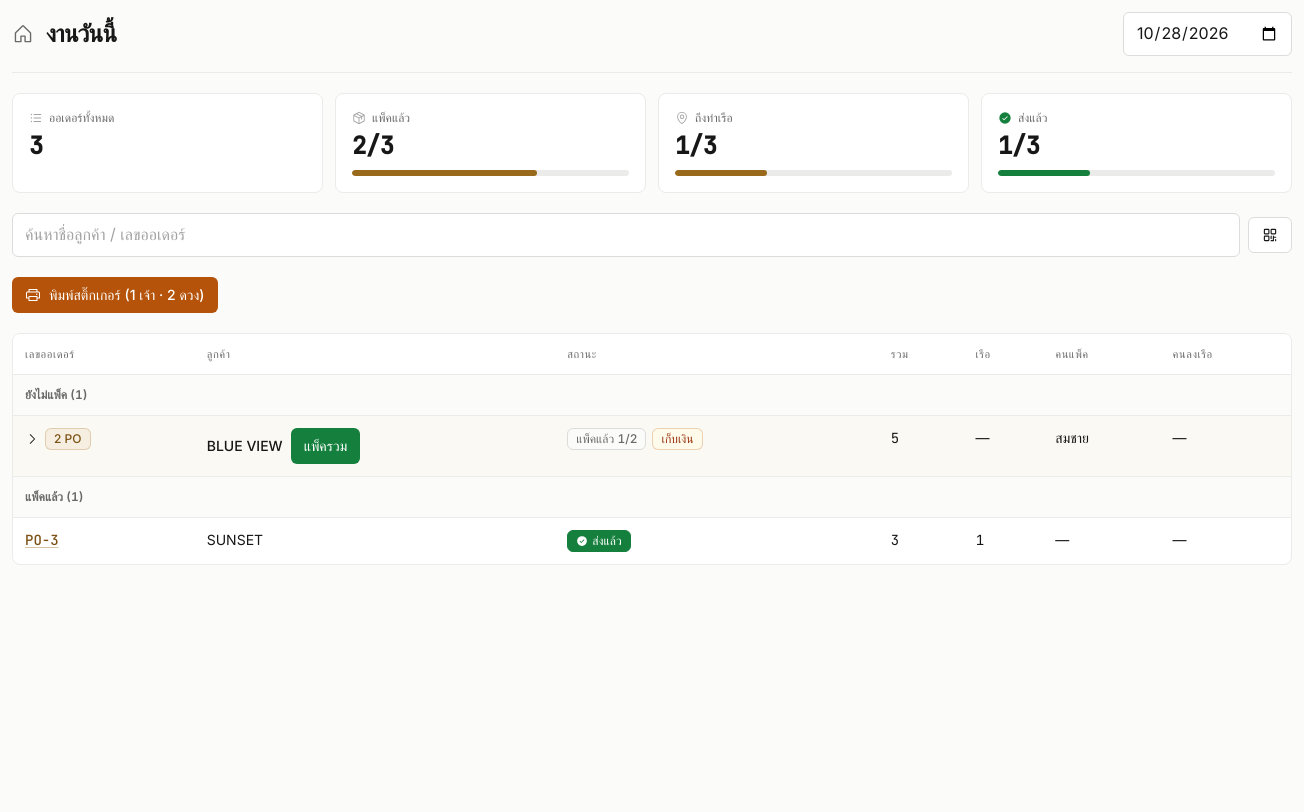
Scenario: expanding a group shows its member POs with links to their own detail pages
The width and height of the screenshot is (1304, 812).
Expected: the text "SUNSET" is shown, [195,518,555,564]
Click the button with aria-label "ขยายออเดอร์ของ". click: (58,439)
box: [25,428,90,450]
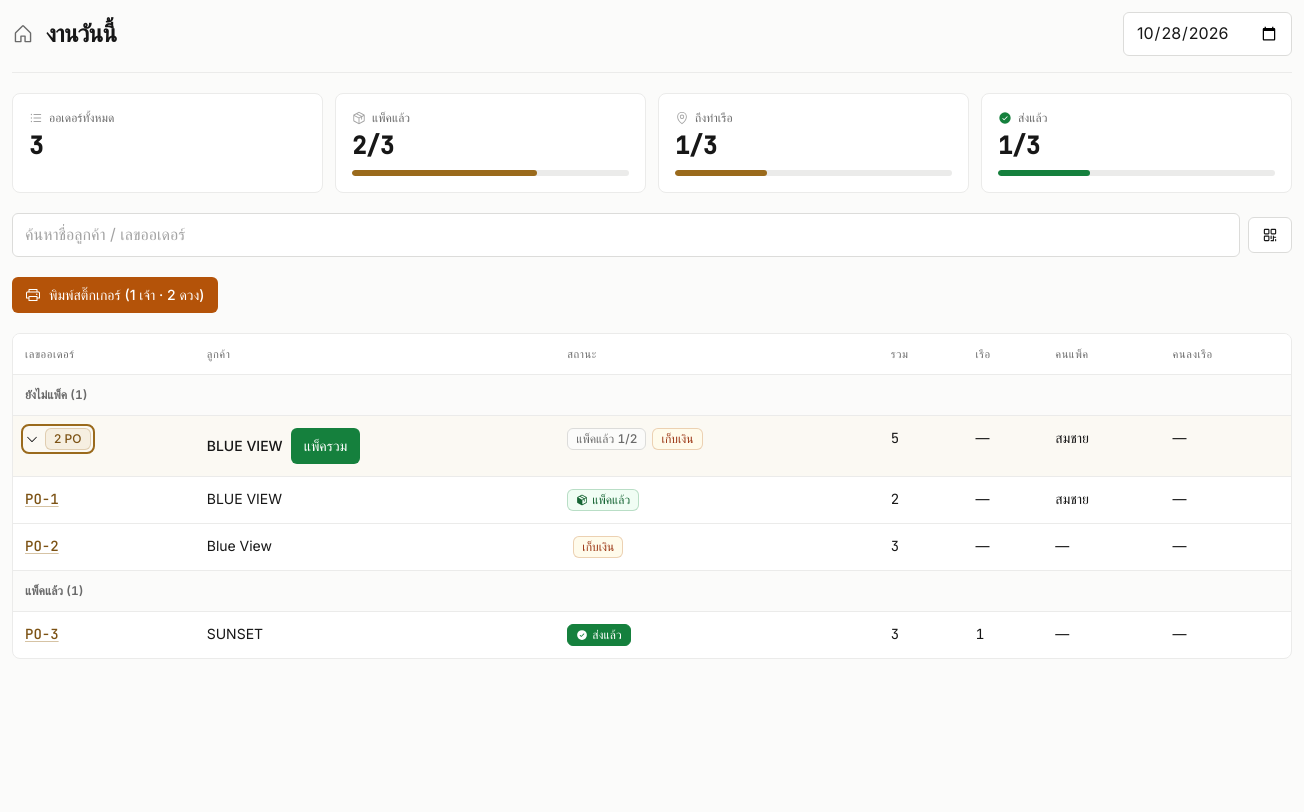
Click the button with aria-label "ยุบออเดอร์ของ". click: (58,439)
box: [25,428,90,450]
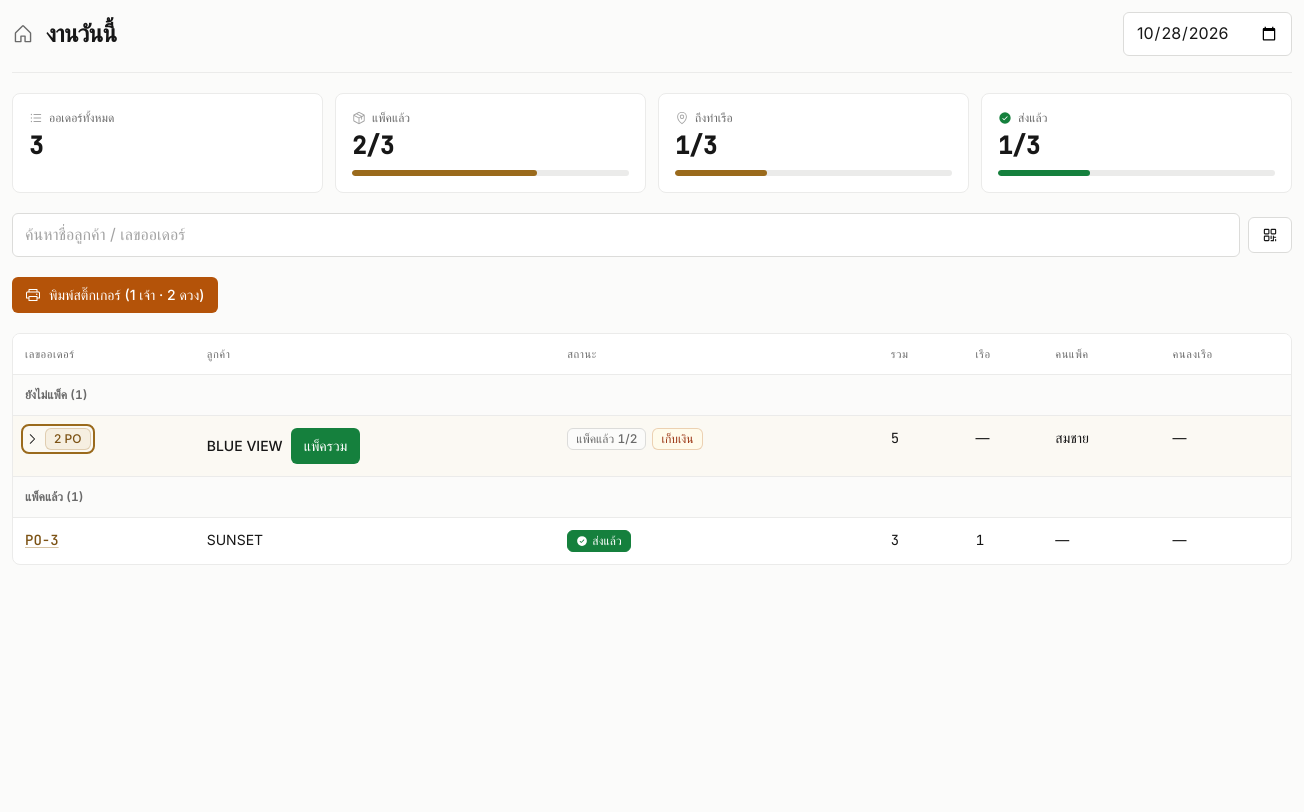
Now the link "PO-1" is gone
